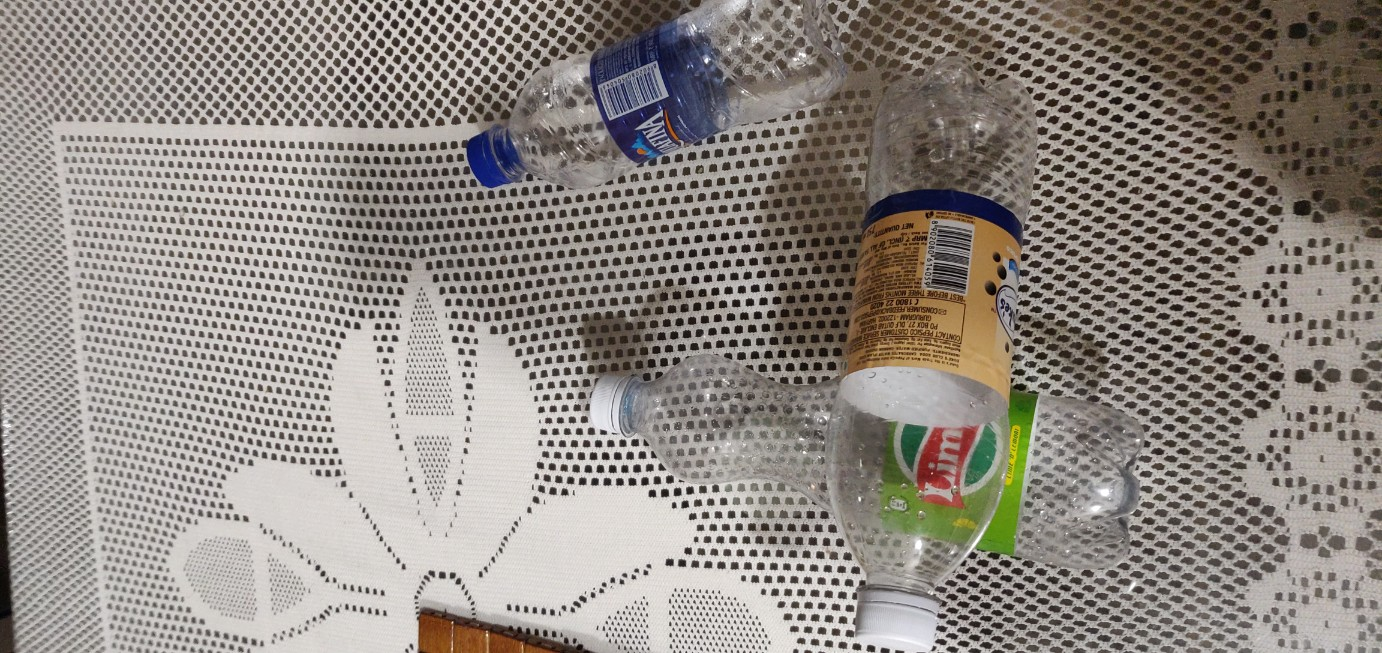Electronics: (810, 49, 1082, 653), (569, 356, 1169, 606), (455, 1, 863, 204)
